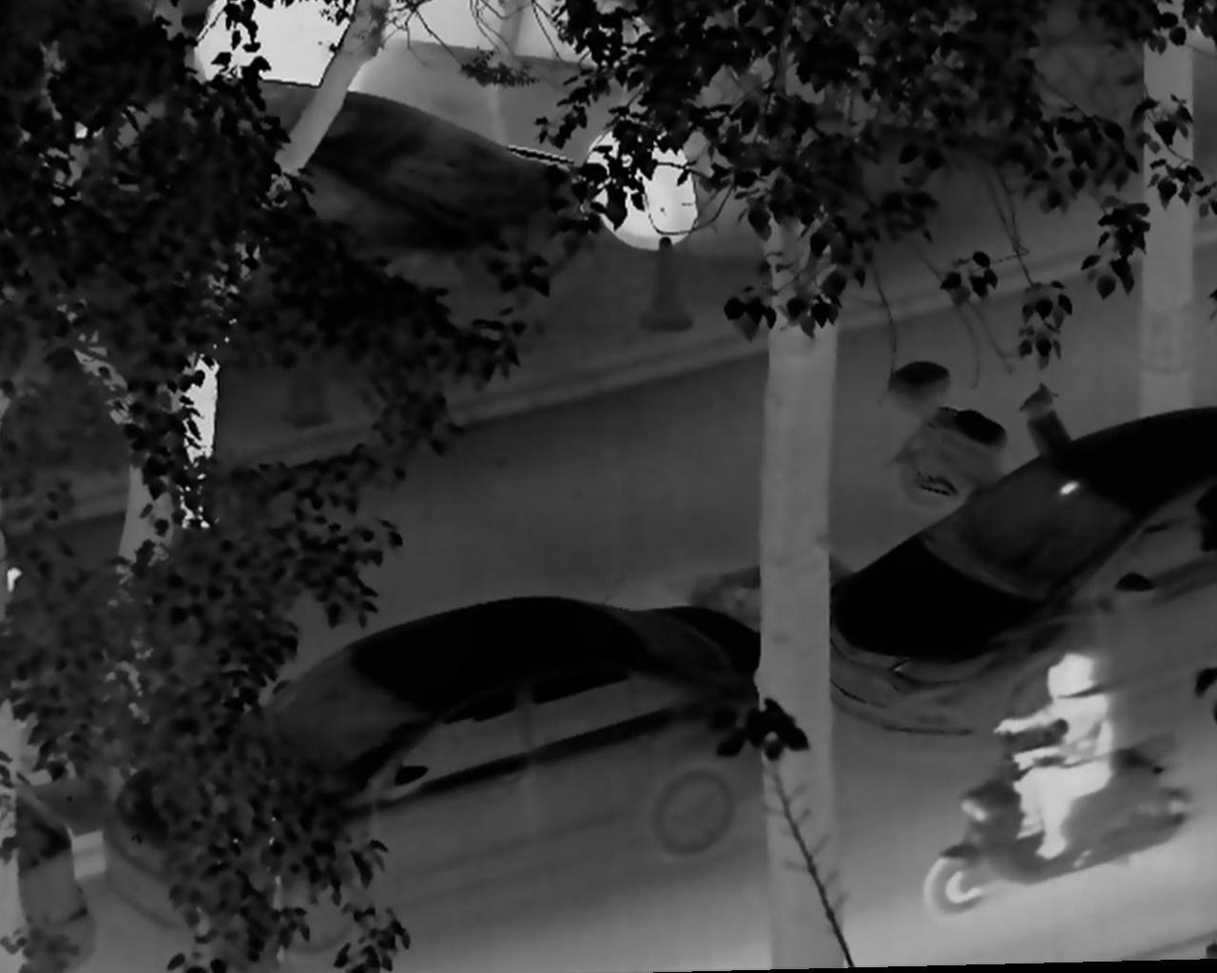person: (989, 648, 1111, 871), (175, 307, 235, 544)
